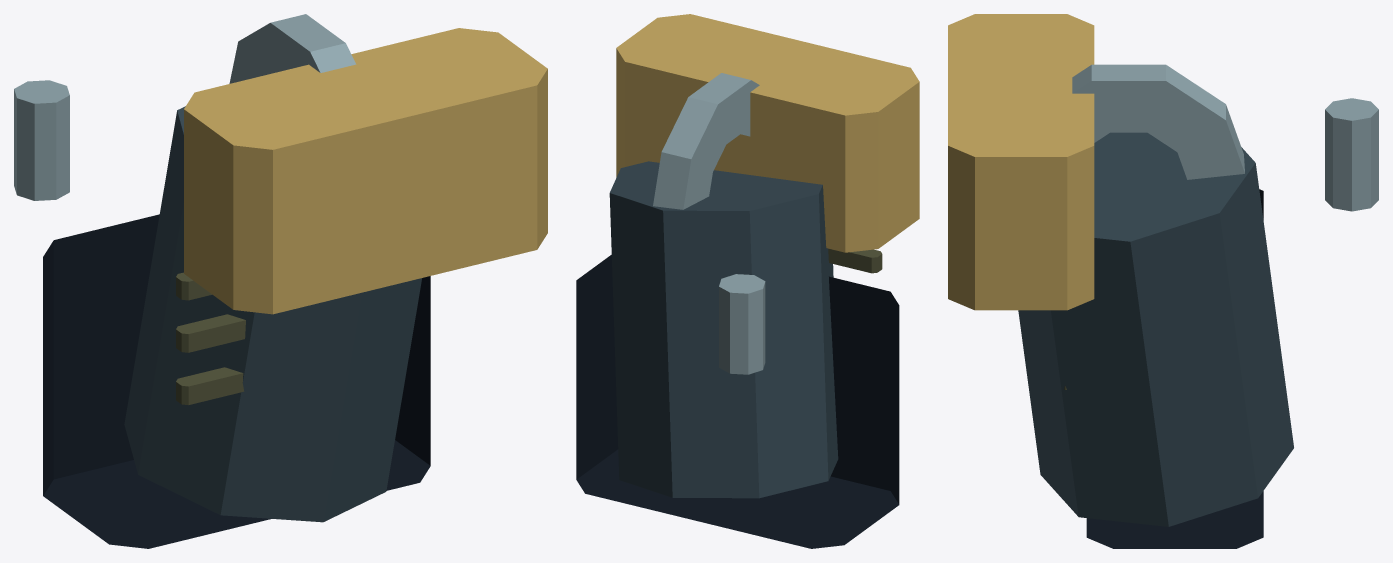
File: enemy_gunner_shin_r.obj
The picture shows the model from 3 angles, left to right: view 1: azimuth 30°, elevation 25°; view 2: azimuth 150°, elevation 25°; view 3: azimuth 270°, elevation 25°; orthographic projection. The views are drawn at different scales.
Size of the model in its own units: 0.51 by 0.6084 by 0.56.
